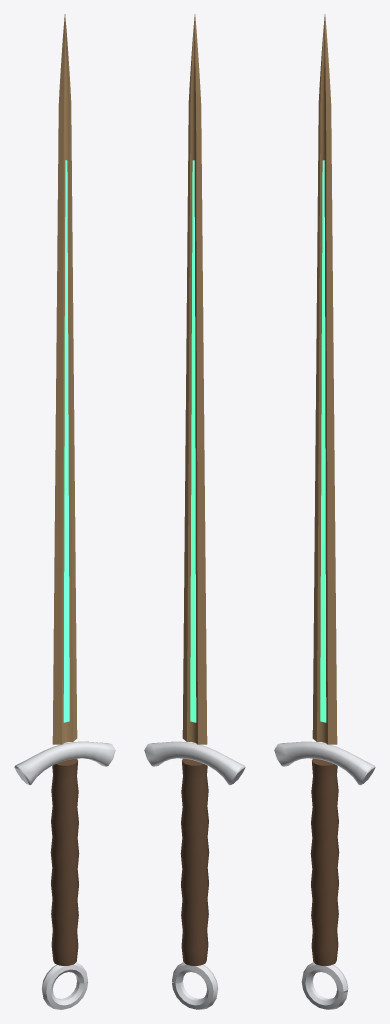
File: depth_basalt_zweihander.glb
3 views of the same model, side by side, from view 1: azimuth 30°, elevation 25°; view 2: azimuth 150°, elevation 25°; view 3: azimuth 330°, elevation 25° (orthographic).
Visible parts, largest first — view 1: depth_basalt_zweihander; view 2: depth_basalt_zweihander; view 3: depth_basalt_zweihander.
Boxes of the visible parts, bbox=[...] form: depth_basalt_zweihander: bbox=[14, 14, 115, 1009]; depth_basalt_zweihander: bbox=[144, 14, 245, 1009]; depth_basalt_zweihander: bbox=[274, 14, 375, 1009].
Size of the model in its own units: 0.1439 by 1.44 by 0.0356.
